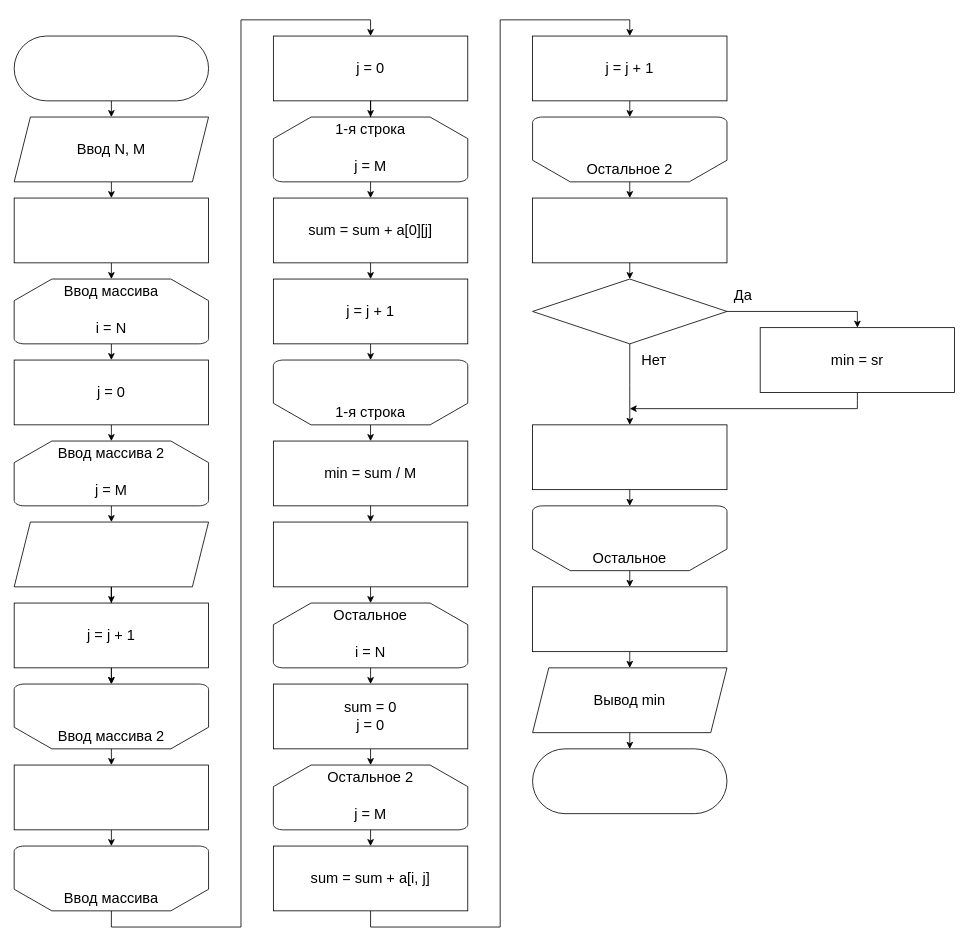
This 969x948 diagram has some shape labels left out. Here are the shapes that lost their labels. From the top down, the centre of each, then its label:
At [111,68]: "Начало".
At [111,230]: "sum = 0 i = 0".
At [629,230]: "sr = sum / M".
At [629,311]: "sr < min ?".
At [629,457]: "i = i + 1".
At [111,554]: "Ввод A[i][j]".
At [370,554]: "i = 1".
At [629,619]: "min = (min * 100) / 100".
At [111,797]: "i = i +1".
At [629,781]: "Конец".
